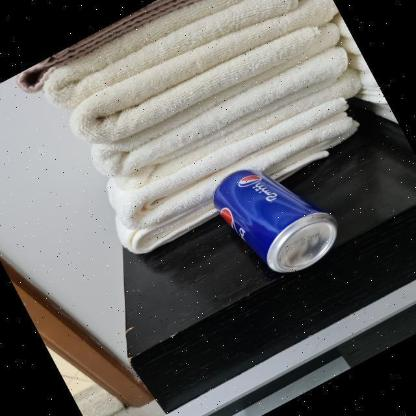Can: (212, 170, 336, 272)
